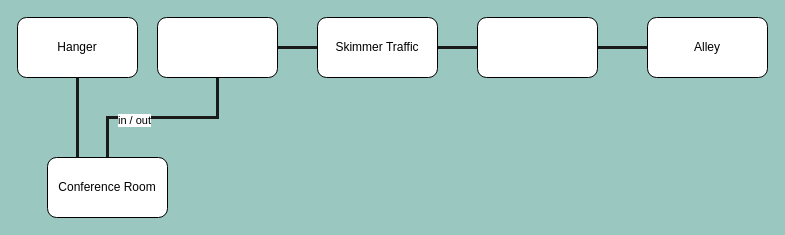
Some shapes in this 785 by 235 pixel diagram are drawn without their labels. Here are the shapes that lost their labels. From the top down, the centre of each, then its label:
(217,47): Planet Express
(537,47): Access Road
